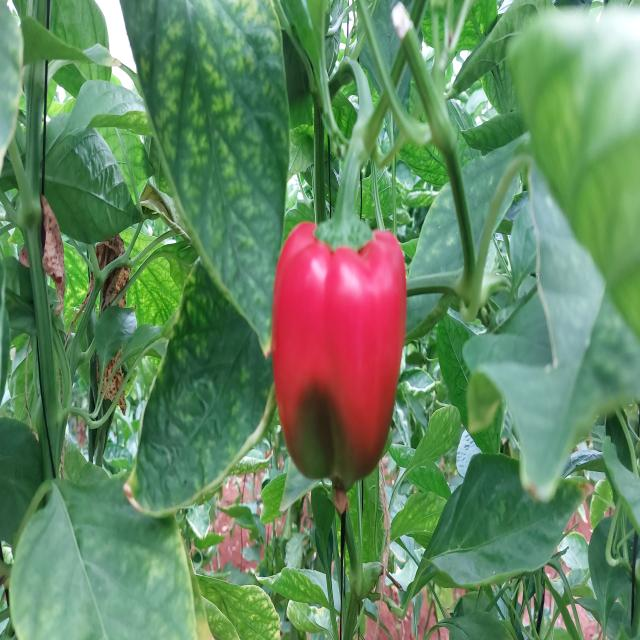Red-Ready-to-Harvest: (274, 219, 406, 499)
